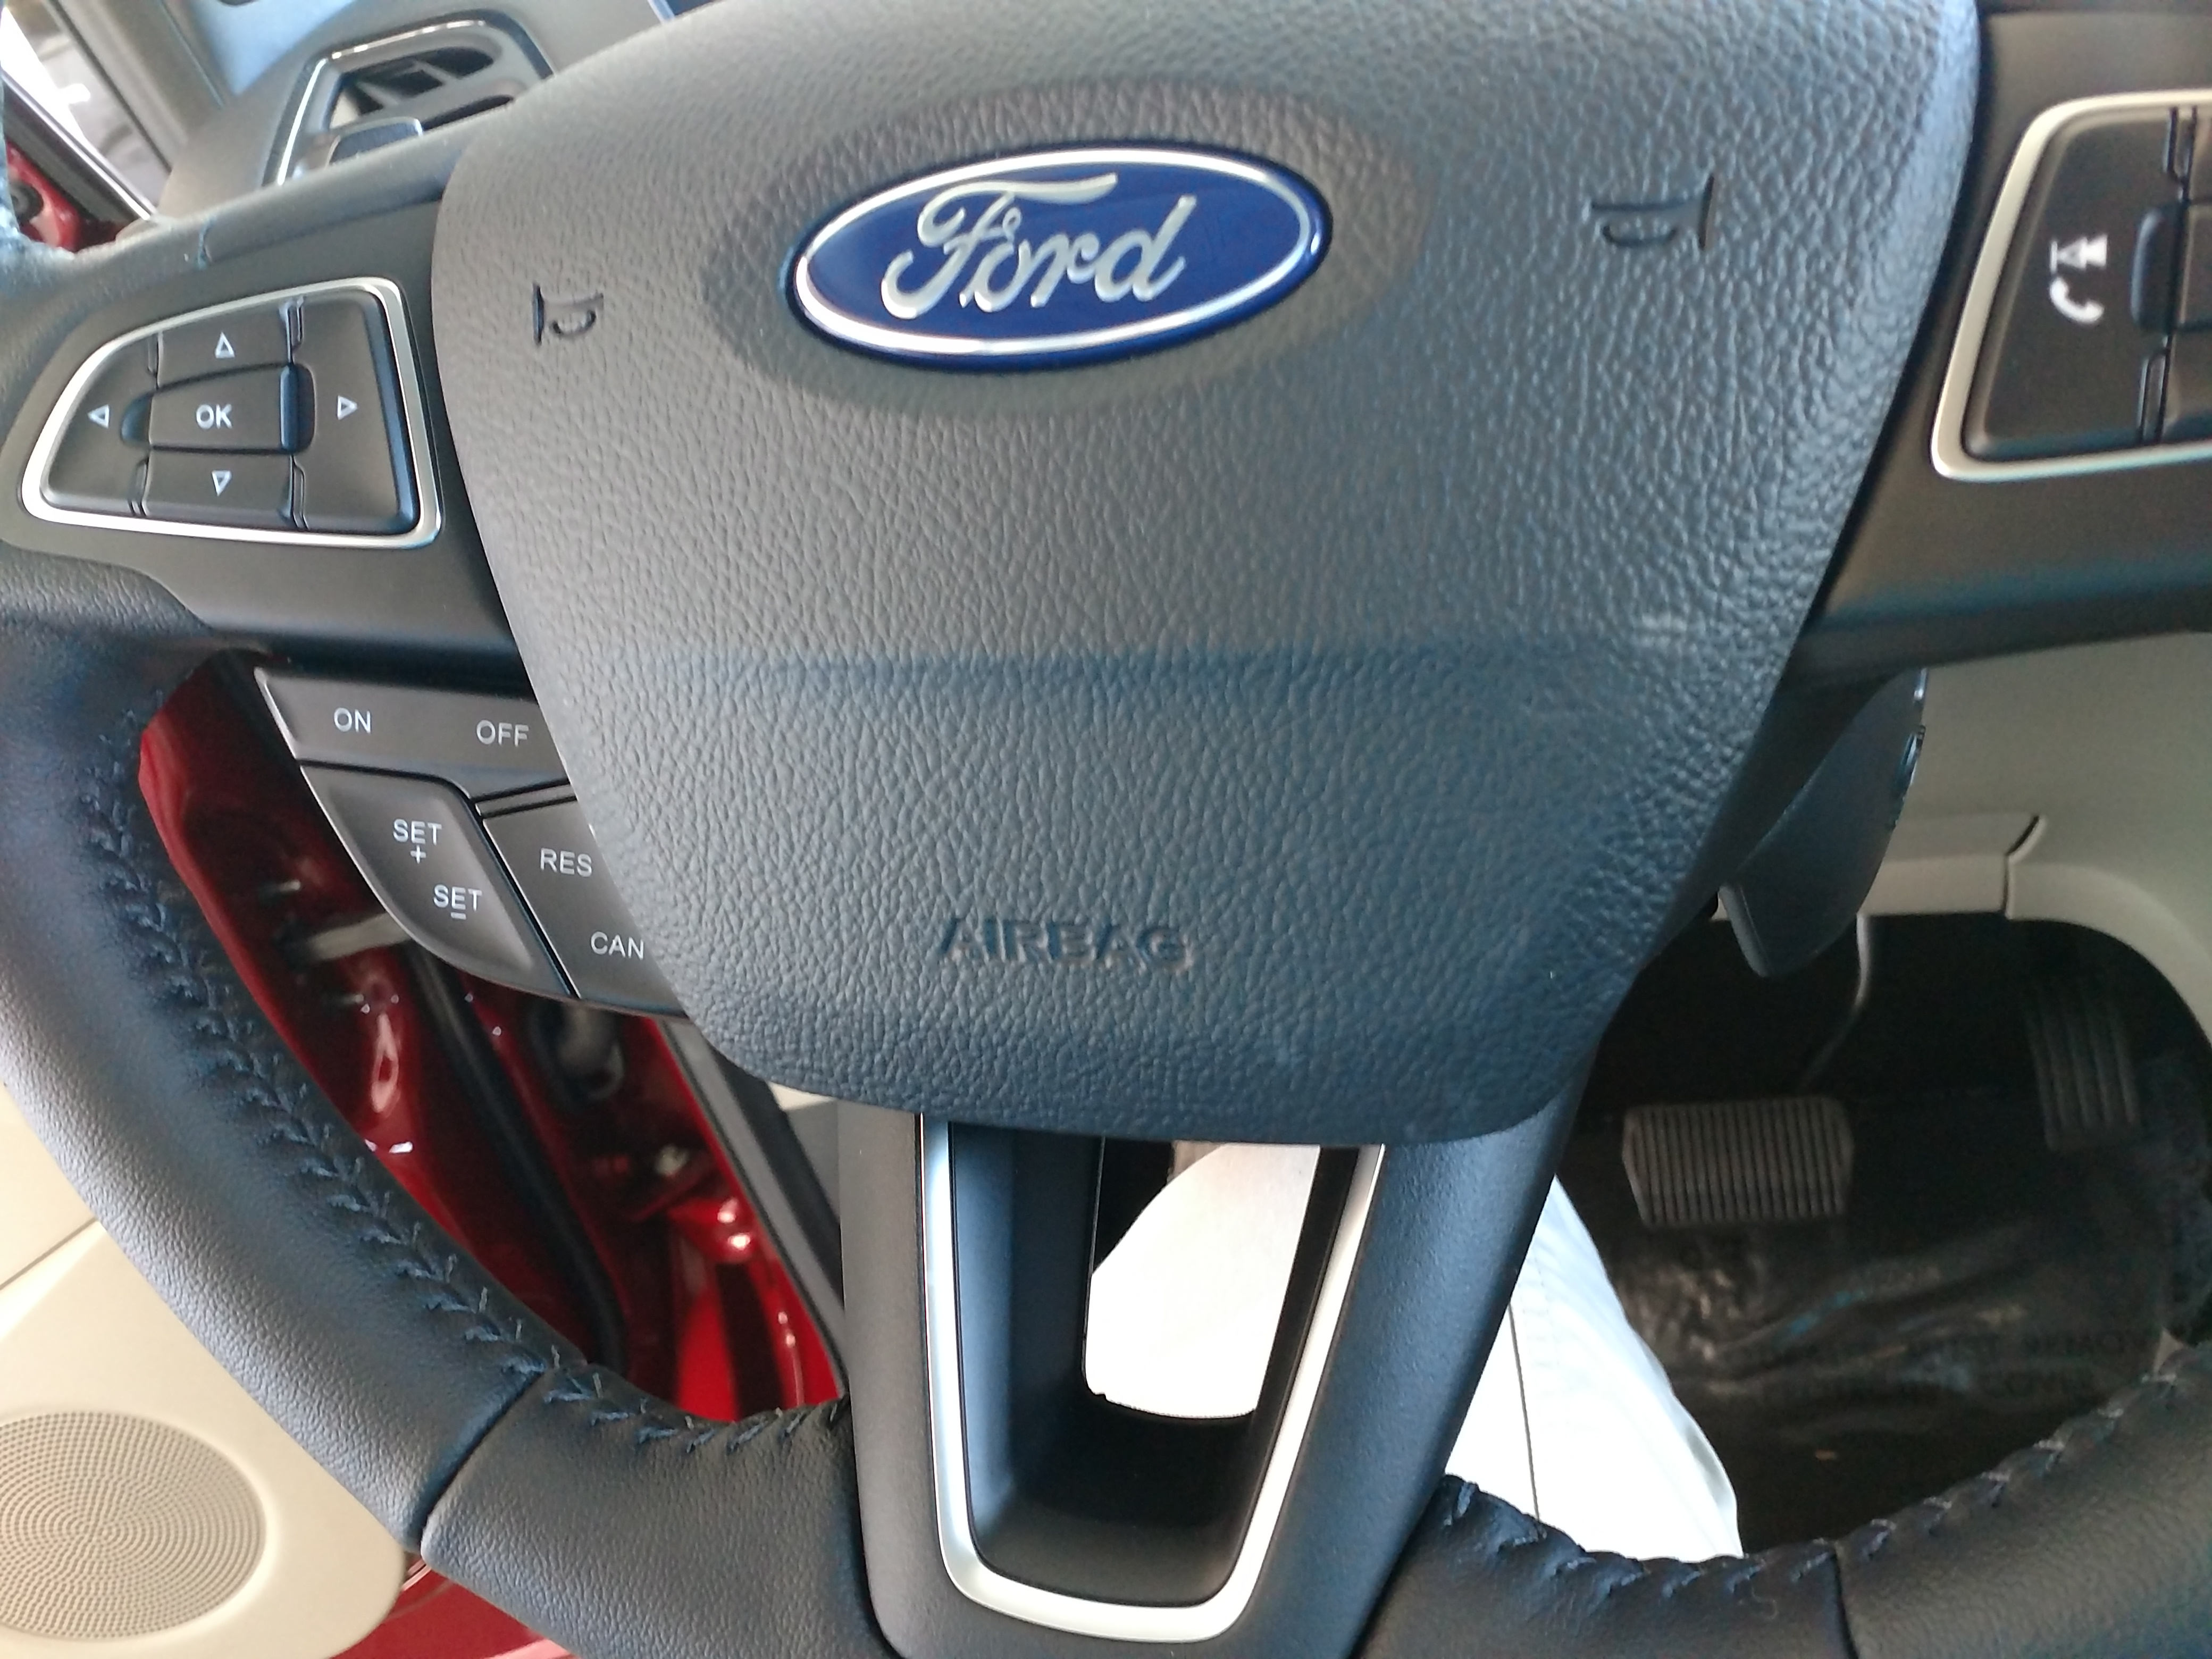Ford: (749, 129, 1383, 387)
